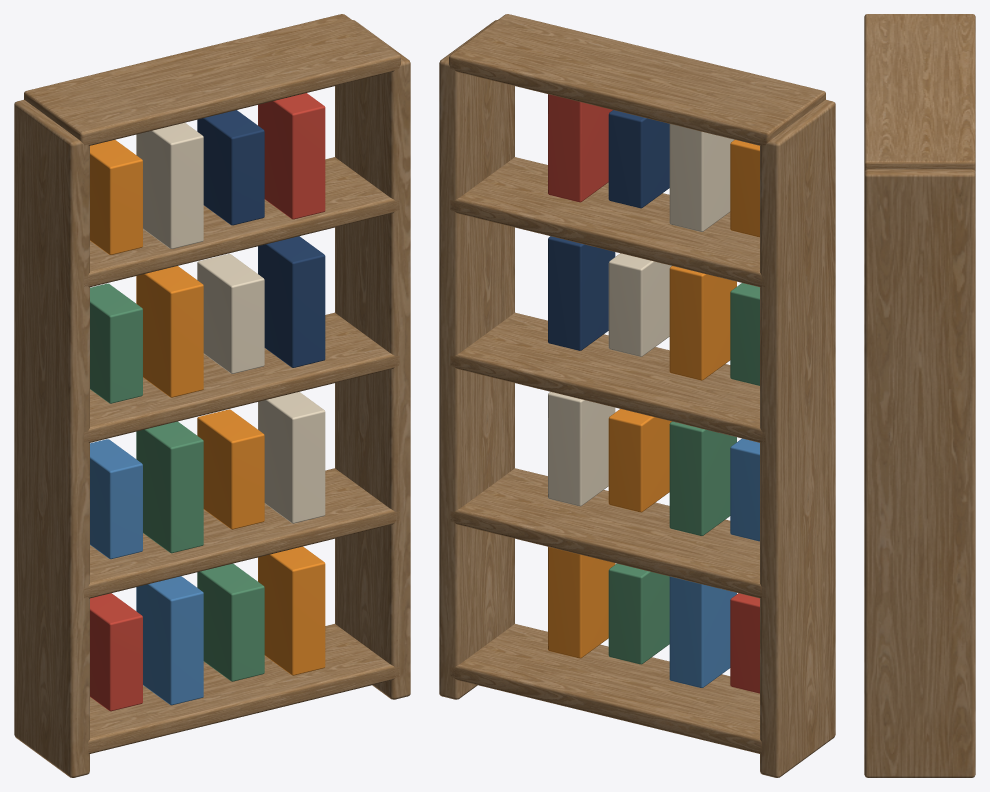
The model's file is bookshelf_oak.glb.
3 views of the same model, side by side, from view 1: azimuth 30°, elevation 25°; view 2: azimuth 150°, elevation 25°; view 3: azimuth 270°, elevation 25° (orthographic). The views are drawn at different scales.
Parts seen in each view (by area): view 1: upright, upright.001, shelf.004, shelf, shelf.001, shelf.002, shelf.003, book.007, book.011, book.005, book.009, book.003 (+11 smaller); view 2: upright, upright.001, shelf.004, shelf, shelf.002, shelf.001, shelf.003, book.005, book.009, book.007, book.011, book.001 (+11 smaller); view 3: upright.001, shelf.004.
Boxes of the visible parts, x1=… form: upright: x1=14, y1=100, x2=89, y2=777; upright.001: x1=335, y1=20, x2=410, y2=699; shelf.004: x1=24, y1=14, x2=400, y2=145; shelf: x1=88, y1=624, x2=399, y2=753; shelf.001: x1=84, y1=468, x2=399, y2=598; shelf.002: x1=84, y1=312, x2=399, y2=442; shelf.003: x1=84, y1=157, x2=399, y2=287; book.007: x1=258, y1=392, x2=325, y2=523; book.011: x1=258, y1=236, x2=325, y2=367; book.005: x1=136, y1=421, x2=203, y2=553; book.009: x1=136, y1=266, x2=203, y2=397; book.003: x1=258, y1=546, x2=325, y2=675; upright: x1=760, y1=100, x2=835, y2=777; upright.001: x1=439, y1=20, x2=514, y2=699; shelf.004: x1=449, y1=14, x2=825, y2=145; shelf: x1=450, y1=624, x2=761, y2=753; shelf.002: x1=450, y1=312, x2=765, y2=442; shelf.001: x1=450, y1=468, x2=765, y2=598; shelf.003: x1=450, y1=157, x2=765, y2=287; book.005: x1=669, y1=421, x2=736, y2=535; book.009: x1=669, y1=266, x2=736, y2=380; book.007: x1=548, y1=392, x2=615, y2=506; book.011: x1=548, y1=236, x2=615, y2=350; book.001: x1=669, y1=576, x2=736, y2=687; upright.001: x1=864, y1=169, x2=975, y2=777; shelf.004: x1=864, y1=14, x2=975, y2=170.
Bounding box in the file's own units: 1.01 × 1.82 × 0.3.
7 materials, 1 textured.
